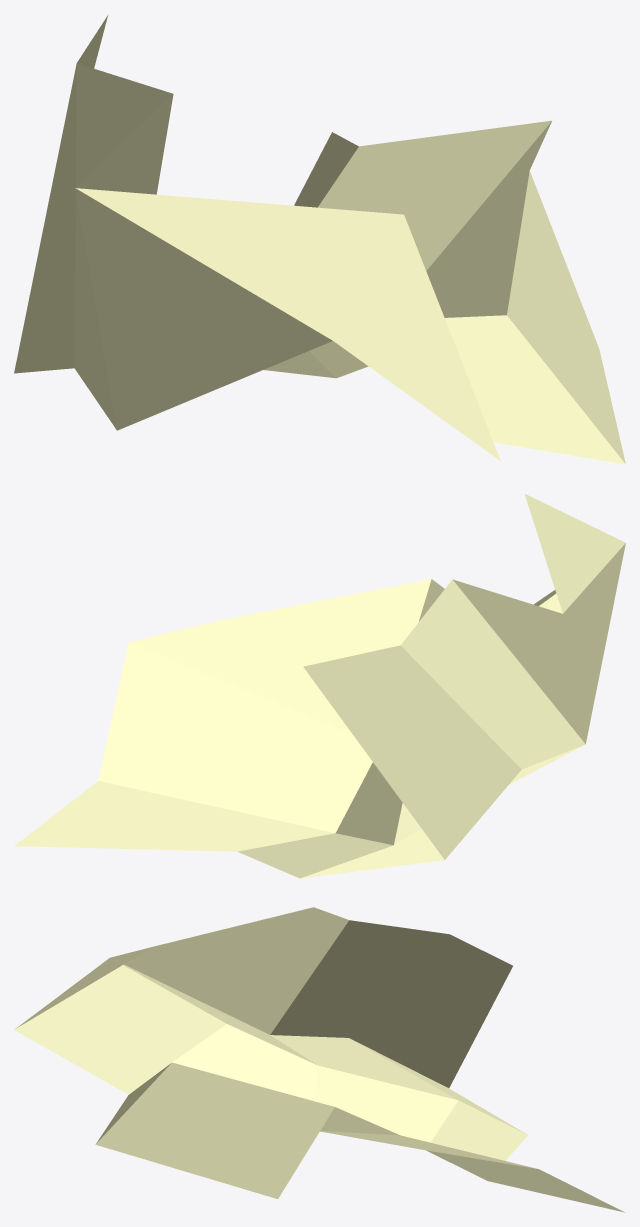
Rendered from NoteCrumpled.FBX.
3 renders of one model, top to bottom at view 1: azimuth 30°, elevation 25°; view 2: azimuth 150°, elevation 25°; view 3: azimuth 270°, elevation 25°, orthographic. The views are drawn at different scales.
Parts seen in each view (by area): view 1: Plane002; view 2: Plane002; view 3: Plane002.
Boxes of the visible parts, <box> form: Plane002: <box>14,15,625,464</box>; Plane002: <box>14,494,625,878</box>; Plane002: <box>14,907,624,1212</box>.
Size of the model in its own units: 957 by 585 by 1574.
